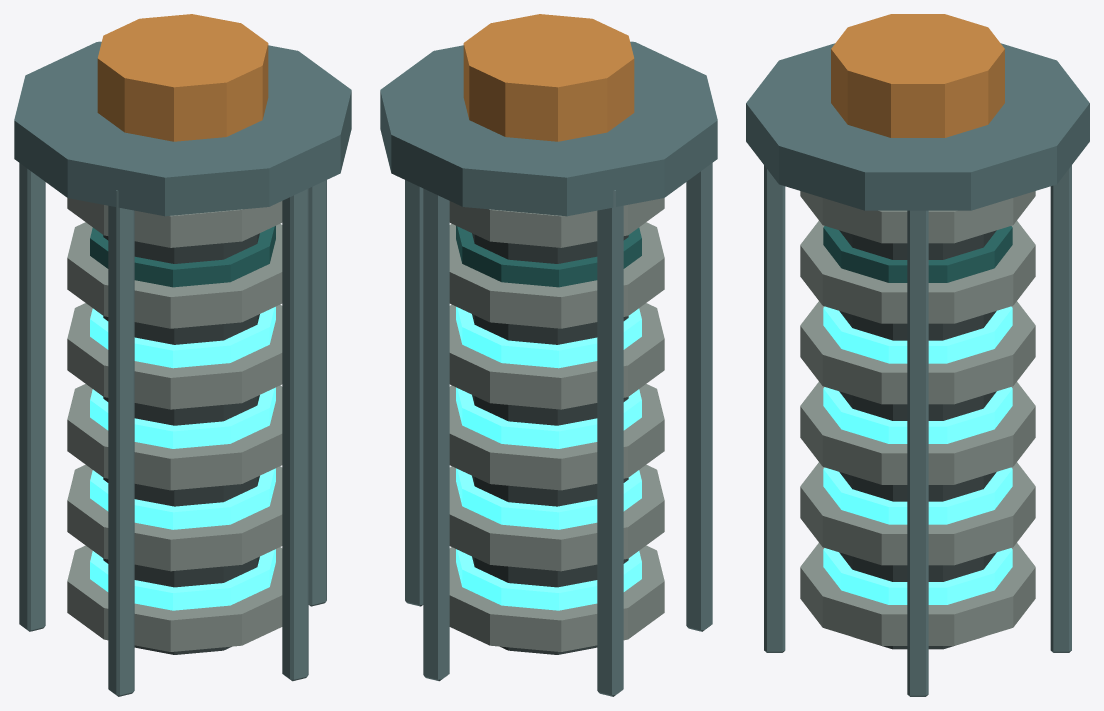
Rendered from Energy_Core.glb.
3 views of the same model, side by side, from view 1: azimuth 30°, elevation 25°; view 2: azimuth 150°, elevation 25°; view 3: azimuth 270°, elevation 25° (orthographic).
Visible parts, largest first — view 1: Energy_Core; view 2: Energy_Core; view 3: Energy_Core.
Boxes of the visible parts, left/top/right/bottom form: Energy_Core: left=14, top=14, right=351, bottom=696; Energy_Core: left=380, top=14, right=717, bottom=696; Energy_Core: left=746, top=14, right=1089, bottom=696.
Bounding box in the file's own units: 1.69 × 3.32 × 1.78.
